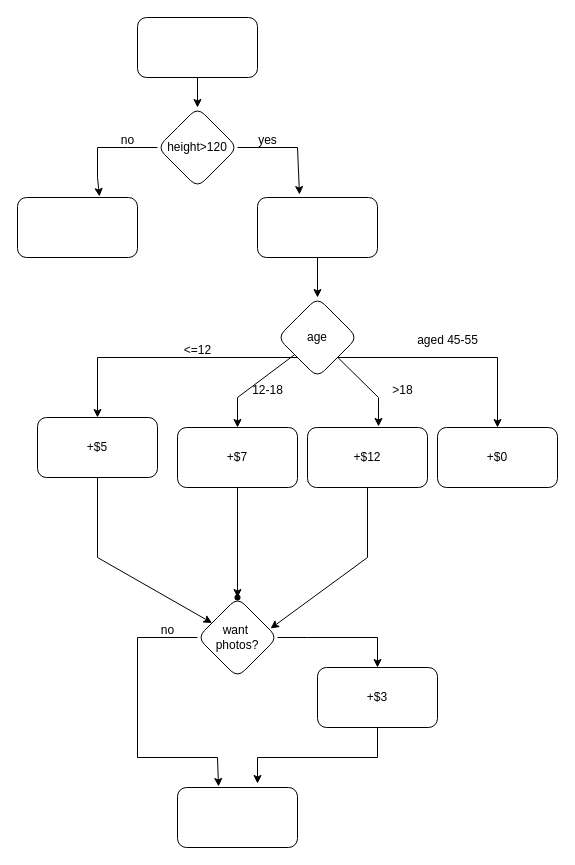
The diagram is 575 pixels wide and 865 high, and some of its shapes have lost their labels. Here are the shapes that lost their labels. From the top down, the centre of each, then its label:
the point at 197,47: Start
the point at 77,227: you can't ride
the point at 317,227: you can ride
the point at 237,817: total bill is: $x
